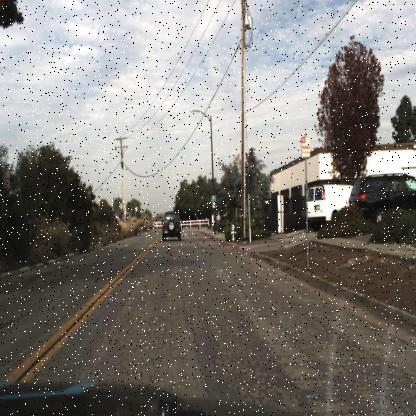car: (347, 171, 415, 231), (302, 180, 347, 232), (159, 205, 183, 243)
